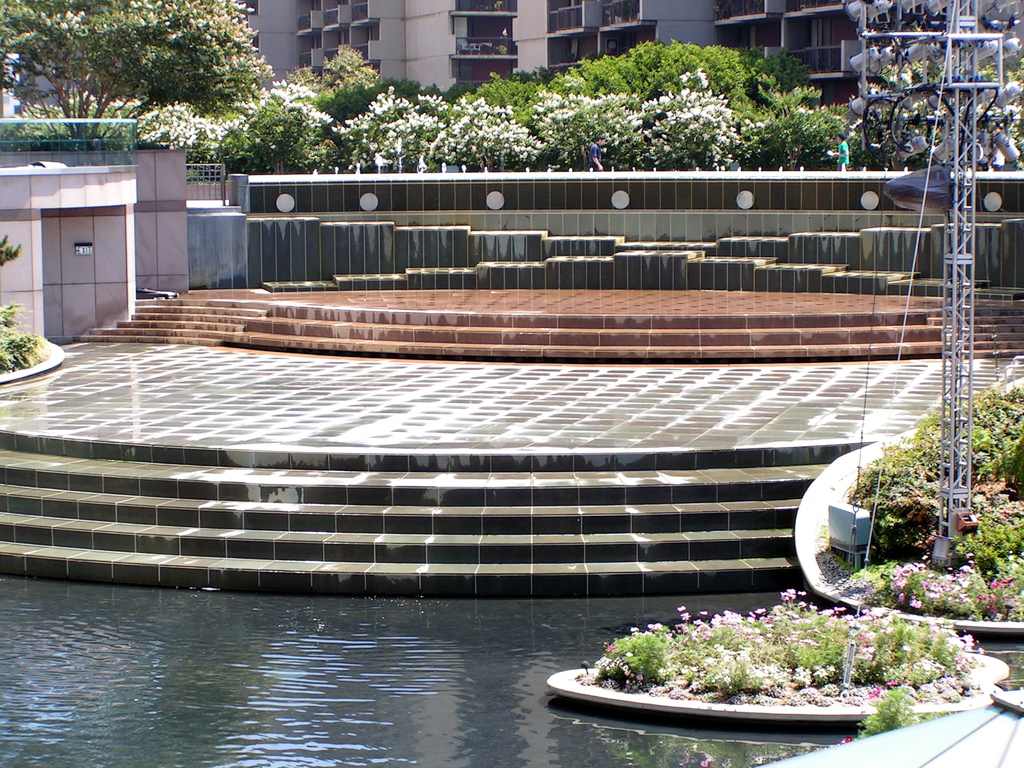Tree: (0, 0, 274, 152)
